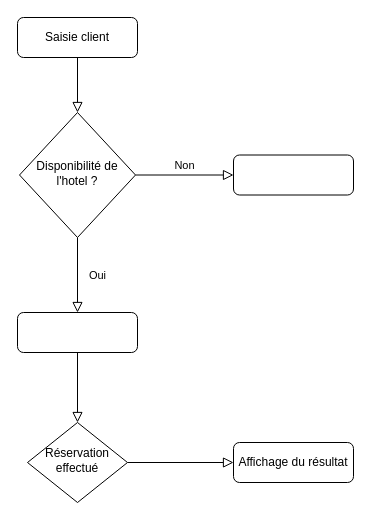
The diagram is 371 pixels wide and 520 high, and some of its shapes have lost their labels. Here are the shapes that lost their labels. From the top down, the box of each, then its label:
(232, 154, 354, 195): Recommencer avec d'autres entrées clavier
(16, 312, 138, 352): Saisie du client
